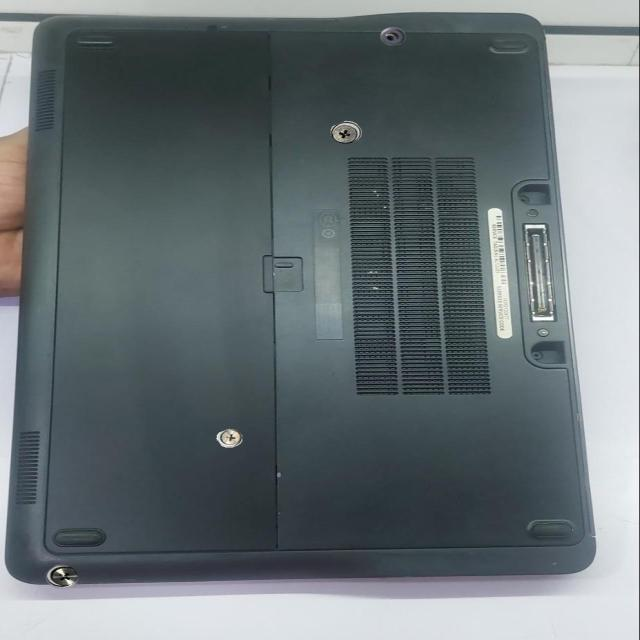lock: (45, 564, 78, 588), (330, 120, 362, 144), (216, 428, 242, 448)
missing_screw: (380, 26, 406, 46)
